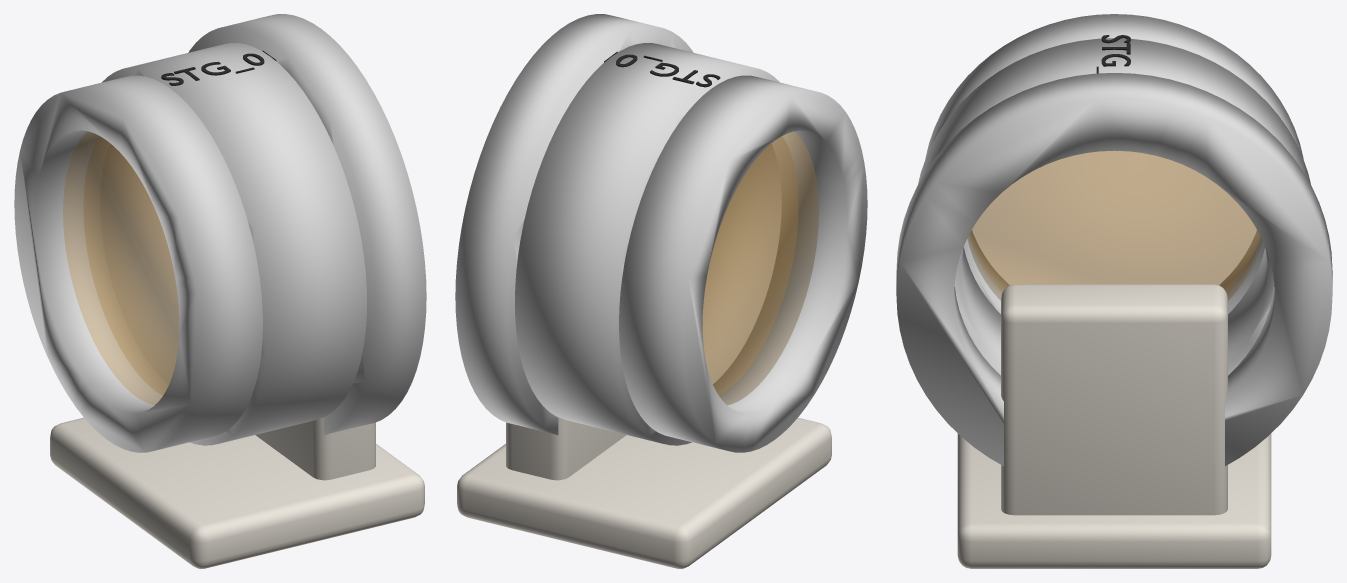
File: vk_shader_stage.glb
The picture shows the model from 3 angles, left to right: view 1: azimuth 30°, elevation 25°; view 2: azimuth 150°, elevation 25°; view 3: azimuth 270°, elevation 25°; orthographic projection. The views are drawn at different scales.
Parts seen in each view (by area): view 1: FrontBrassRim, SageBarrel, StandBase, RearMountRing, ShaderOpticalLens, StandPillar, Label_STG01; view 2: FrontBrassRim, SageBarrel, StandBase, RearMountRing, ShaderOpticalLens, StandPillar, Label_STG01; view 3: RearMountRing, StandPillar, ShaderOpticalLens, StandBase, SageBarrel, FrontBrassRim, Label_STG01.
Part boxes in pixels (box(x1,y1,x2,y2)): FrontBrassRim: box(14, 75, 262, 452); SageBarrel: box(100, 43, 366, 445); StandBase: box(50, 417, 424, 568); RearMountRing: box(188, 14, 426, 435); ShaderOpticalLens: box(63, 131, 179, 404); StandPillar: box(255, 417, 375, 480); Label_STG01: box(161, 50, 276, 85); FrontBrassRim: box(619, 75, 867, 452); SageBarrel: box(515, 43, 781, 445); StandBase: box(457, 417, 831, 568); RearMountRing: box(455, 14, 693, 435); ShaderOpticalLens: box(702, 131, 818, 404); StandPillar: box(506, 417, 626, 480); Label_STG01: box(604, 51, 720, 87); RearMountRing: box(896, 73, 1332, 466); StandPillar: box(1001, 284, 1227, 515); ShaderOpticalLens: box(967, 150, 1261, 300); StandBase: box(957, 433, 1271, 568); SageBarrel: box(918, 38, 1310, 375); FrontBrassRim: box(925, 14, 1303, 313); Label_STG01: box(1096, 35, 1130, 73).
Bounding box in the file's own units: 1.69 × 2.9 × 2.5.
